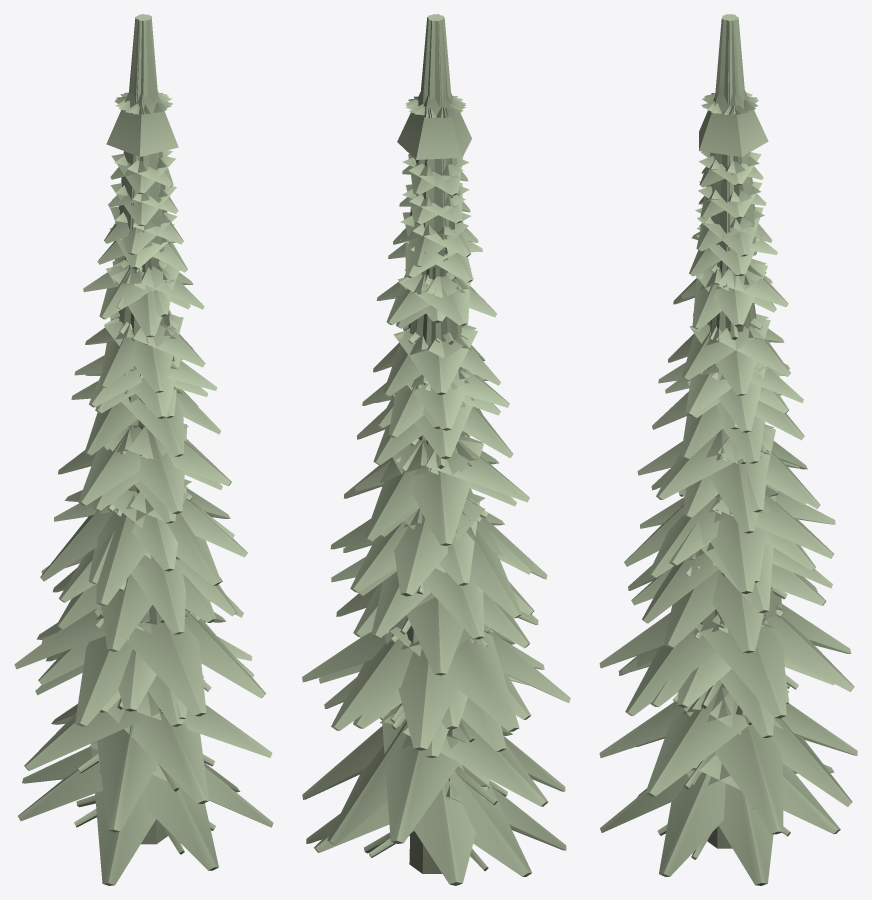
The model's file is tree_larch.glb.
3 renders of one model, left to right at view 1: azimuth 30°, elevation 25°; view 2: azimuth 150°, elevation 25°; view 3: azimuth 270°, elevation 25°, orthographic. The views are drawn at different scales.
Parts seen in each view (by area): view 1: tier2_foliage, tier1_foliage, tier0_foliage, tier1_bark, tier0_bark, tier2_bark; view 2: tier2_foliage, tier1_foliage, tier0_foliage, tier1_bark, tier0_bark, tier2_bark; view 3: tier2_foliage, tier1_foliage, tier0_foliage, tier2_bark, tier1_bark, tier0_bark.
Boxes of the visible parts, bbox=[...] form: tier2_foliage: bbox=[14, 14, 265, 726]; tier1_foliage: bbox=[24, 14, 272, 832]; tier0_foliage: bbox=[18, 14, 273, 885]; tier1_bark: bbox=[78, 323, 215, 844]; tier0_bark: bbox=[74, 675, 215, 854]; tier2_bark: bbox=[96, 259, 211, 691]; tier2_foliage: bbox=[302, 14, 570, 750]; tier1_foliage: bbox=[302, 14, 565, 844]; tier0_foliage: bbox=[306, 14, 566, 885]; tier1_bark: bbox=[390, 338, 507, 873]; tier0_bark: bbox=[364, 434, 488, 870]; tier2_bark: bbox=[380, 272, 493, 719]; tier2_foliage: bbox=[599, 14, 854, 718]; tier1_foliage: bbox=[599, 14, 857, 834]; tier0_foliage: bbox=[600, 14, 840, 885]; tier2_bark: bbox=[671, 261, 798, 702]; tier1_bark: bbox=[684, 328, 790, 848]; tier0_bark: bbox=[657, 565, 790, 859].
Size of the model in its own units: 0.2831 by 1 by 0.2848.
